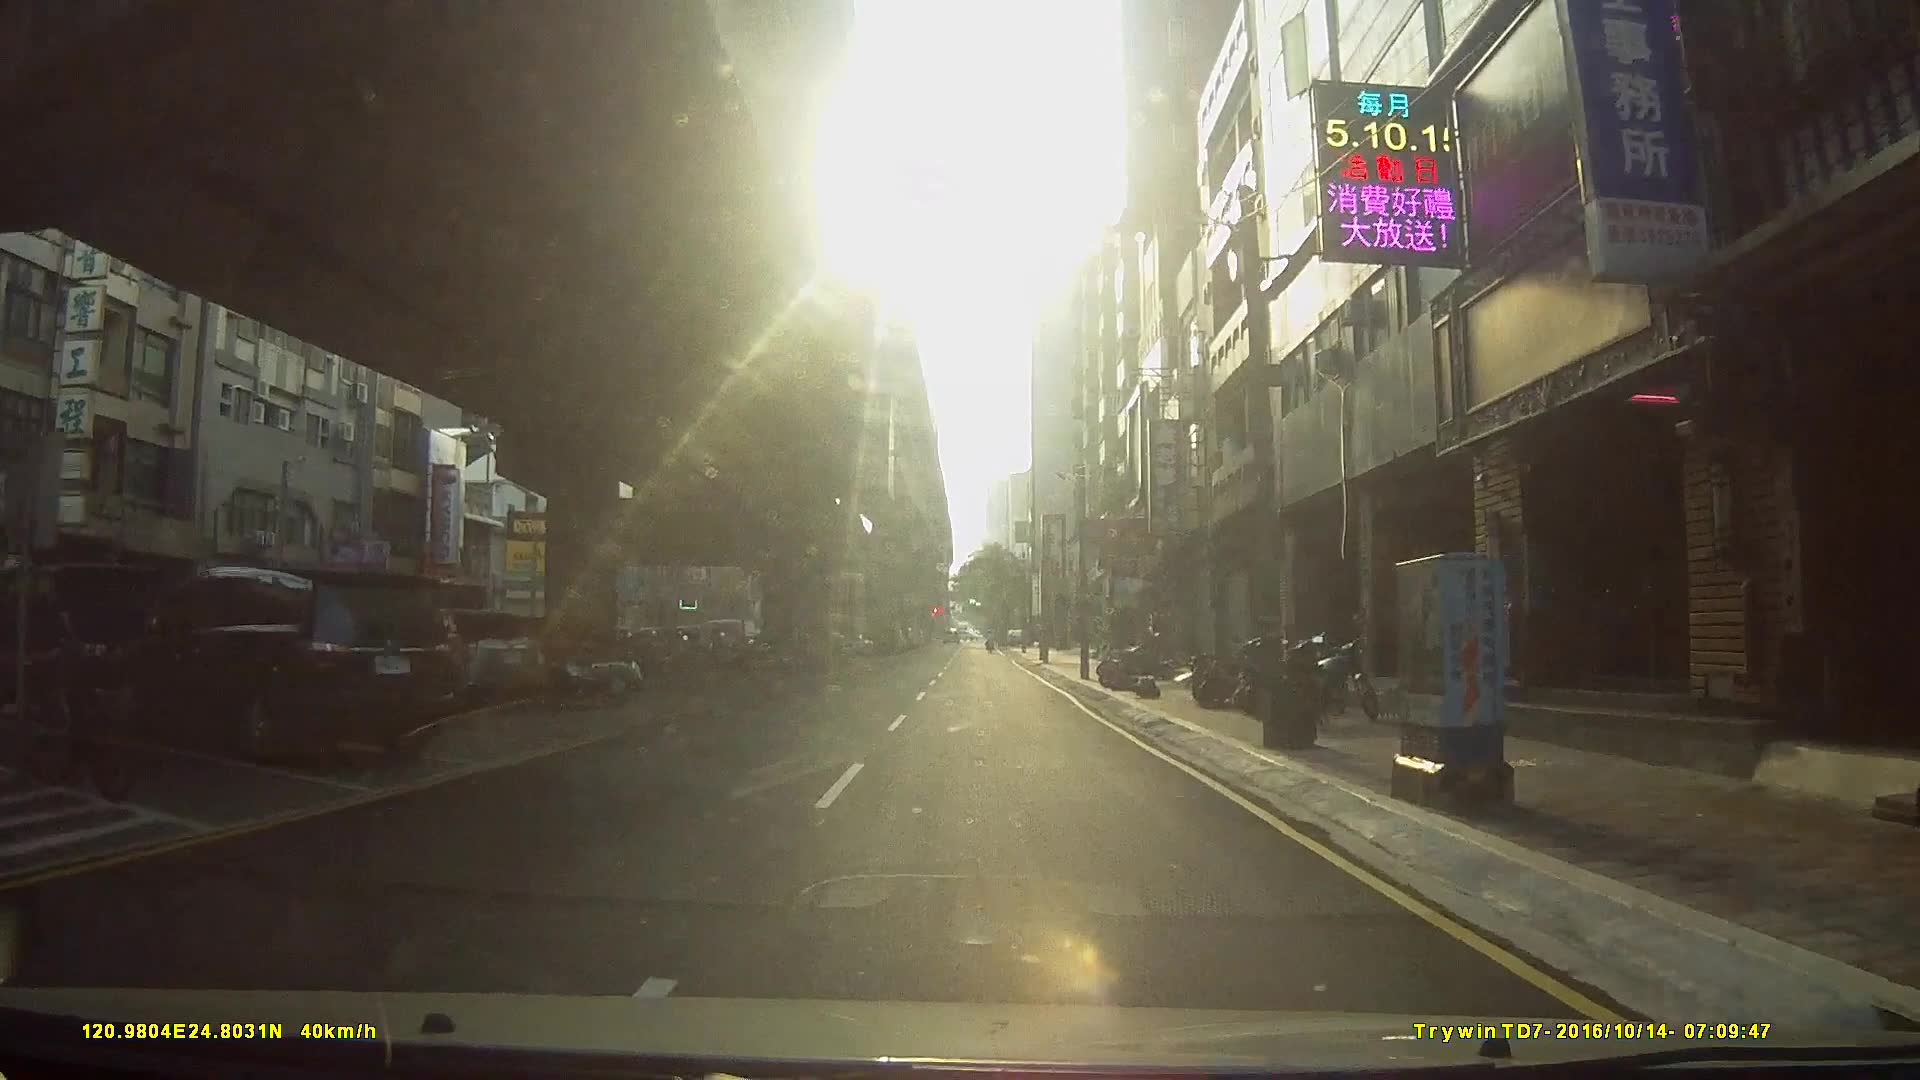vehicle: (91, 559, 450, 760), (0, 560, 185, 721), (368, 611, 546, 708), (455, 618, 644, 705)
